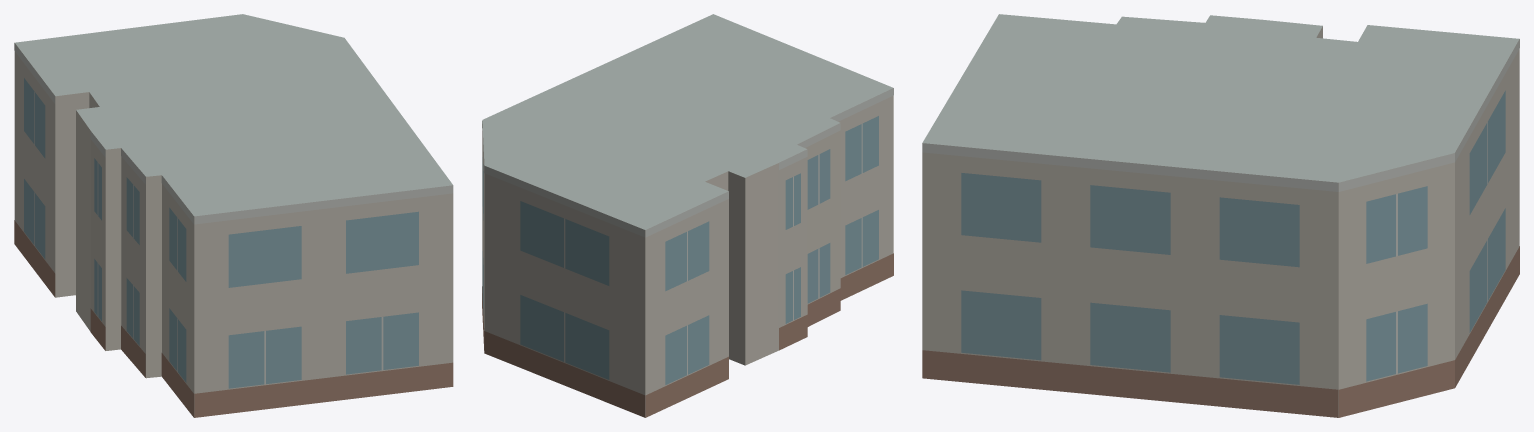
The model's file is survey-upis-33014403.glb.
3 views of the same model, side by side, from view 1: azimuth 30°, elevation 25°; view 2: azimuth 150°, elevation 25°; view 3: azimuth 270°, elevation 25° (orthographic). The views are drawn at different scales.
Visible parts, largest first — view 1: survey-upis-33014403.tmp; view 2: survey-upis-33014403.tmp; view 3: survey-upis-33014403.tmp.
Boxes of the visible parts, x1,y1,x2,y2 form: survey-upis-33014403.tmp: [14, 14, 453, 417]; survey-upis-33014403.tmp: [482, 14, 893, 417]; survey-upis-33014403.tmp: [922, 14, 1519, 417].
Bounding box in the file's own units: 9.39 × 6.1 × 14.05.
